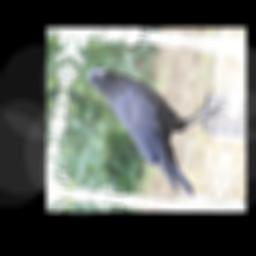Crow: (69, 62, 230, 201)
